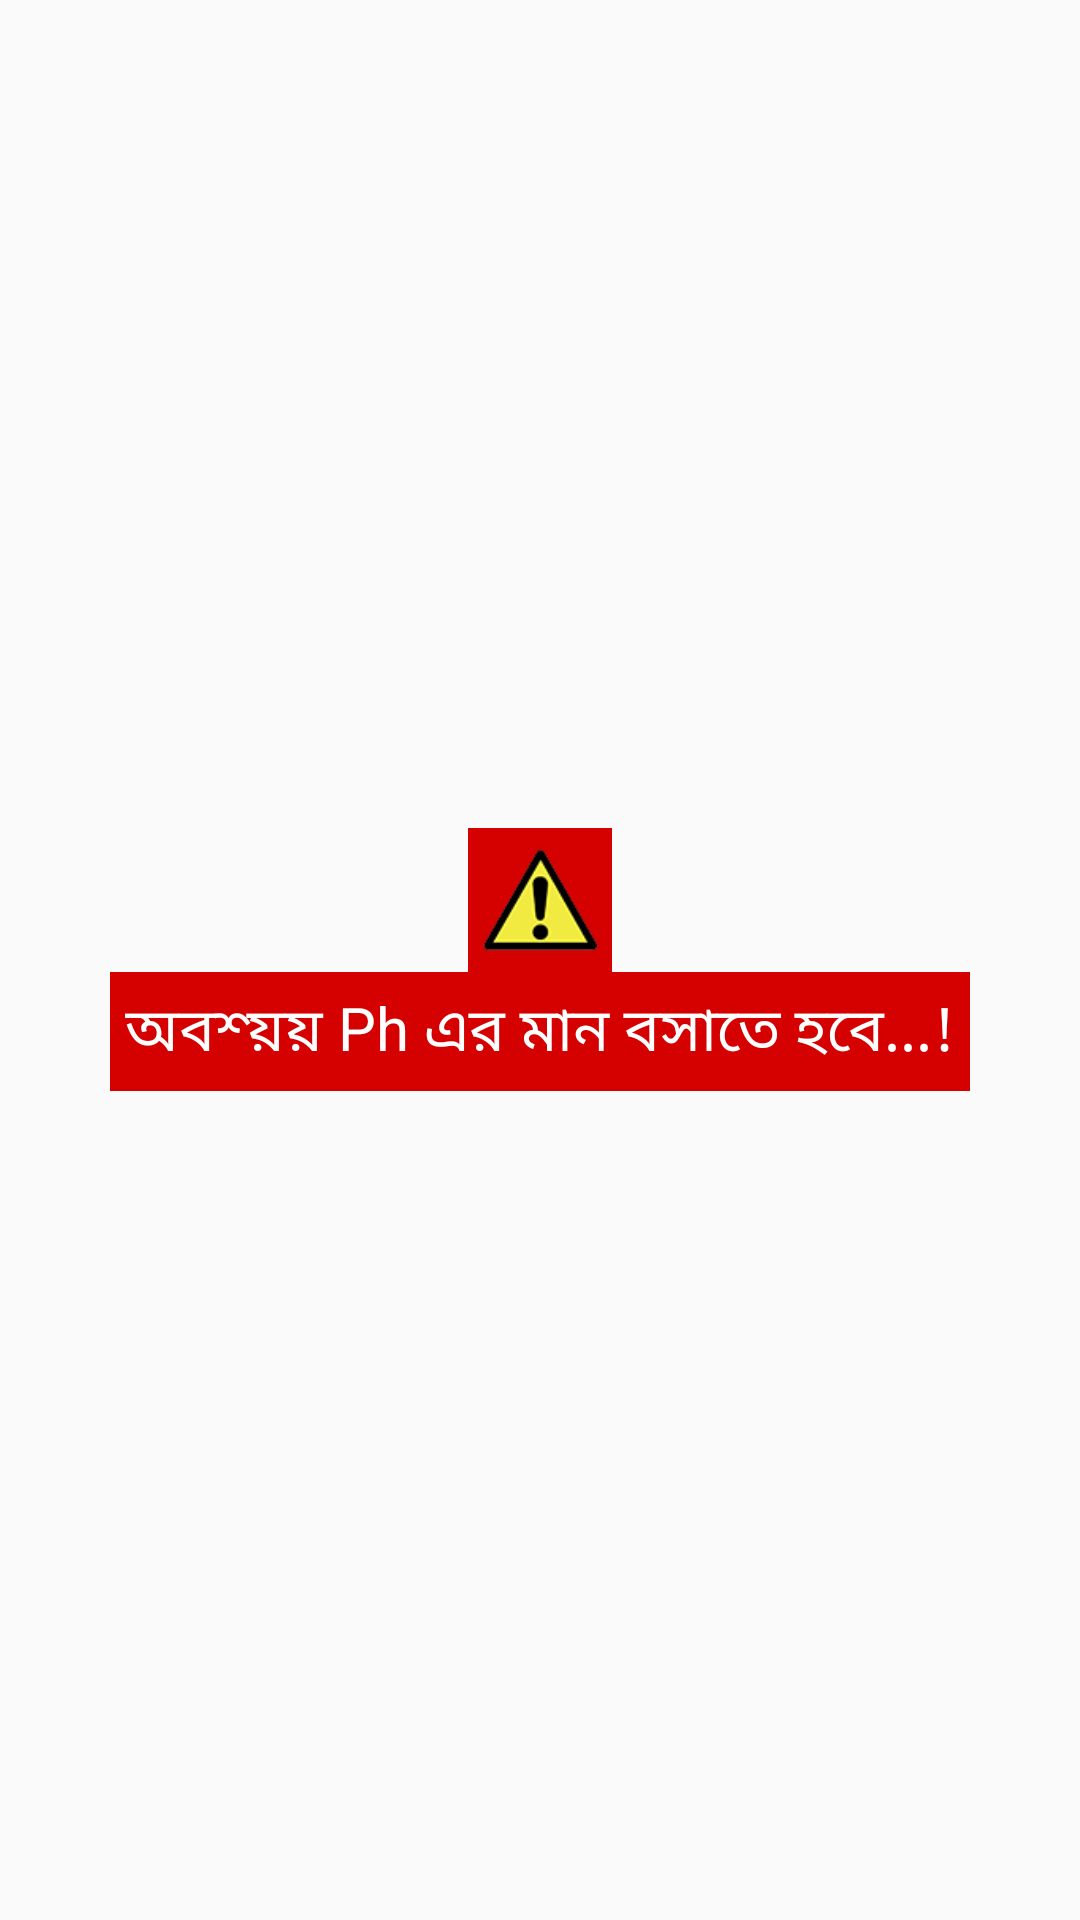

Point at icon controls on the screen. Image size 1080px×1920px, points as point (x, y).
warning: point (540, 900)
